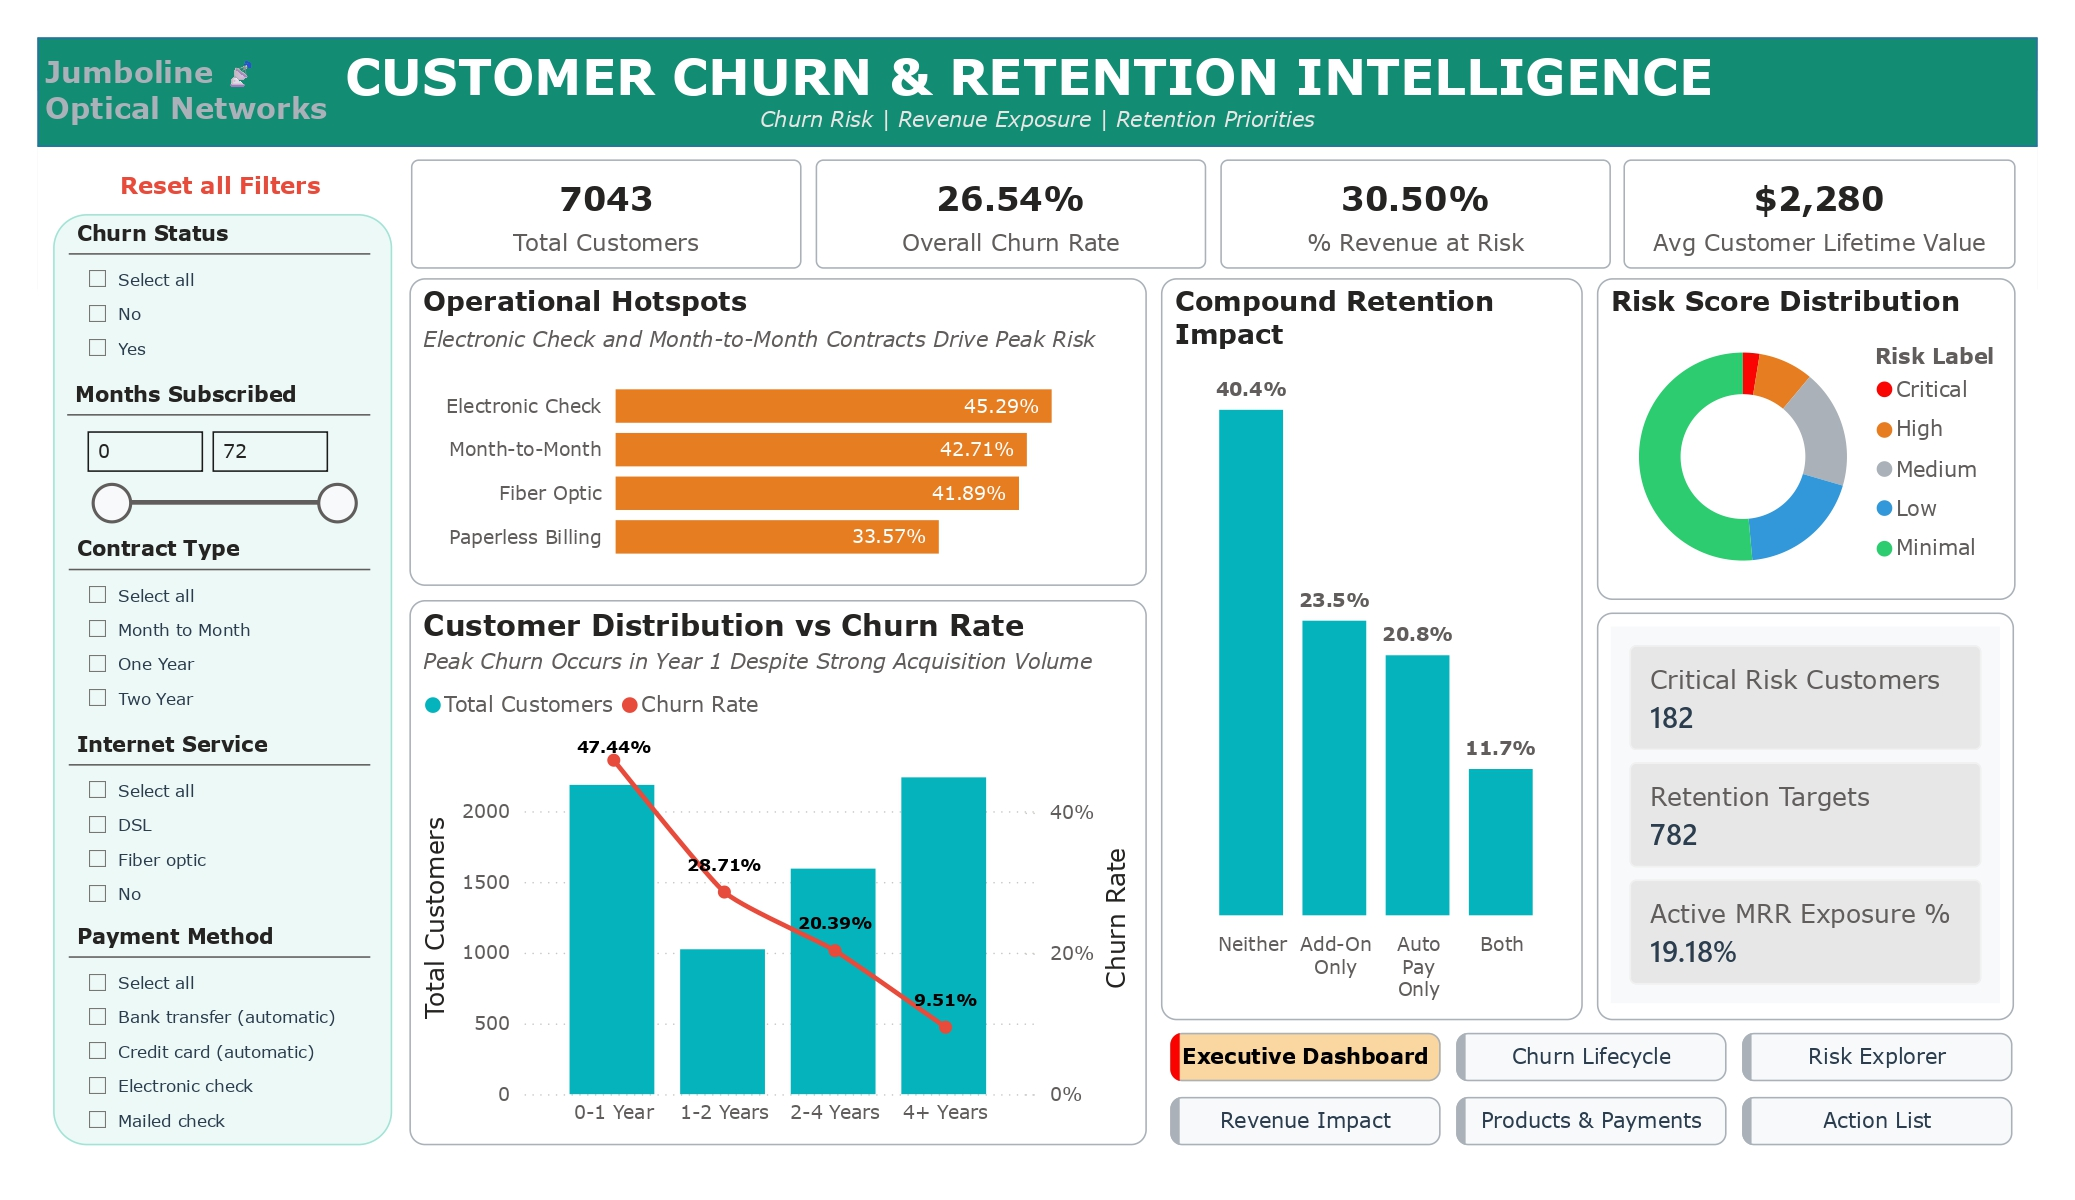

This screenshot's page, from the dashboard's own definition file:
{"tool":"powerbi","page":{"name":"Executive Dashboard","canvas":[1280,720],"ordinal":0},"visuals":[{"type":"shape","box":[0,0,1280.3,70.3],"z":0,"group":"g2"},{"type":"actionButton","box":[20.5,78,193.1,30.7],"z":0},{"type":"card","fields":{"Values":["_Measures.Total Customers"]},"box":[238.5,78.2,250.4,70.2],"z":0,"group":"g3"},{"type":"shape","box":[10.2,112.6,217.4,596],"z":0,"group":"g1"},{"type":"card","fields":{"Values":["_Measures.Churn Rate"]},"box":[497.6,78.4,250,70],"z":1000,"group":"g3"},{"type":"lineClusteredColumnComboChart","title":"Customer Distribution vs Churn Rate ","fields":{"Category":["vw_customer_analytics.tenure_group_detailed"],"Y":["_Measures.Total Customers"],"Y2":["_Measures.Churn Rate"]},"box":[237.6,359.5,472.7,349.6],"z":1000},{"type":"card","fields":{"Values":["_Measures.Revenue at Risk %"]},"box":[756.3,78,250,70],"z":2000,"group":"g3"},{"type":"clusteredBarChart","title":"Operational Hotspots","fields":{"Category":["Risk Factor Labels.risk_factor"],"Y":["Risk Factor Labels.Top Risk Factor Rate"]},"box":[237.6,154.3,472.7,196.5],"z":2000},{"type":"card","fields":{"Values":["_Measures.Avg CLV"]},"box":[1015,78.2,250.4,70.2],"z":3000,"group":"g3"},{"type":"group","id":"g1","title":"Group 1","box":[10.2,112.6,217.4,596],"z":3000},{"type":"group","id":"g2","title":"Group 2","box":[0,0,1280.3,70.3],"z":4000},{"type":"slicer","title":"Churn Status","fields":{"Values":["vw_customer_analytics.churn"]},"box":[20.4,116.4,193.1,98.5],"z":5000,"group":"g1"},{"type":"pageNavigator","box":[724.8,637.3,540.6,71.6],"z":5000},{"type":"group","id":"g3","title":"Group 3","box":[238.5,78,1026.9,70.4],"z":6000},{"type":"slicer","title":"Months Subscribed","fields":{"Values":["vw_customer_analytics.tenure"]},"box":[19.2,220,194.4,94.6],"z":6000,"group":"g1"},{"type":"textbox","box":[0,5,197.8,61],"z":7000},{"type":"slicer","title":"Contract Type","fields":{"Values":["vw_customer_analytics.contract"]},"box":[20.4,318.5,193.1,120.2],"z":7000,"group":"g1"},{"type":"donutChart","title":" Risk Score Distribution","fields":{"Category":["vw_customer_analytics.Risk Label"],"Y":["_Measures.Total Customers"]},"box":[997.7,154.3,268.7,205.3],"z":8000},{"type":"slicer","title":"Internet Service","fields":{"Values":["vw_customer_analytics.internet_service"]},"box":[20.4,443.9,193.1,120.2],"z":8000,"group":"g1"},{"type":"textbox","box":[58.8,0,1162.6,70.3],"z":9000,"group":"g2"},{"type":"cardVisual","fields":{"Data":["vw_customer_analytics.Critical Risk Customers","vw_customer_analytics.Retention Targets","vw_customer_analytics.Retention Targets Churn Rate"]},"box":[997.7,368.2,267.5,261.2],"z":9000},{"type":"slicer","title":"Payment Method","fields":{"Values":["vw_customer_analytics.payment_method"]},"box":[20.4,566.6,193.1,142],"z":9000,"group":"g1"},{"type":"clusteredColumnChart","title":"Compound Retention Impact","fields":{"Category":["vw_customer_analytics.Lever Combination"],"Y":["_Measures.Churn Rate"]},"box":[719,154.3,269.9,475.2],"z":10000}]}

Visuals, with their boxes on the page's 1280x720 design canvas (x1, y1, x2, y2). These are canvas units, not pixel positions in the 2075x1200 screenshot, which may show the page scaled, cropped or inside an application window:
shape: region(0, 0, 1280, 70)
actionButton: region(20, 78, 214, 109)
card - _Measures.Total Customers: region(238, 78, 489, 148)
shape: region(10, 113, 228, 709)
card - _Measures.Churn Rate: region(498, 78, 748, 148)
"Customer Distribution vs Churn Rate " lineClusteredColumnComboChart: region(238, 360, 710, 709)
card - _Measures.Revenue at Risk %: region(756, 78, 1006, 148)
"Operational Hotspots" clusteredBarChart: region(238, 154, 710, 351)
card - _Measures.Avg CLV: region(1015, 78, 1265, 148)
"Group 1" group: region(10, 113, 228, 709)
"Group 2" group: region(0, 0, 1280, 70)
"Churn Status" slicer: region(20, 116, 214, 215)
pageNavigator: region(725, 637, 1265, 709)
"Group 3" group: region(238, 78, 1265, 148)
"Months Subscribed" slicer: region(19, 220, 214, 315)
textbox: region(0, 5, 198, 66)
"Contract Type" slicer: region(20, 318, 214, 439)
" Risk Score Distribution" donutChart: region(998, 154, 1266, 360)
"Internet Service" slicer: region(20, 444, 214, 564)
textbox: region(59, 0, 1221, 70)
cardVisual - vw_customer_analytics.Critical Risk Customers x vw_customer_analytics.Retention Targets: region(998, 368, 1265, 629)
"Payment Method" slicer: region(20, 567, 214, 709)
"Compound Retention Impact" clusteredColumnChart: region(719, 154, 989, 630)
